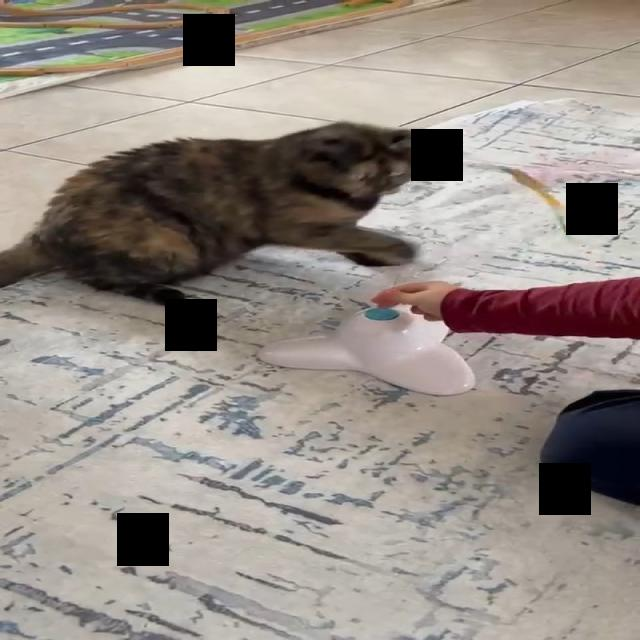authorized: (0, 119, 429, 306)
